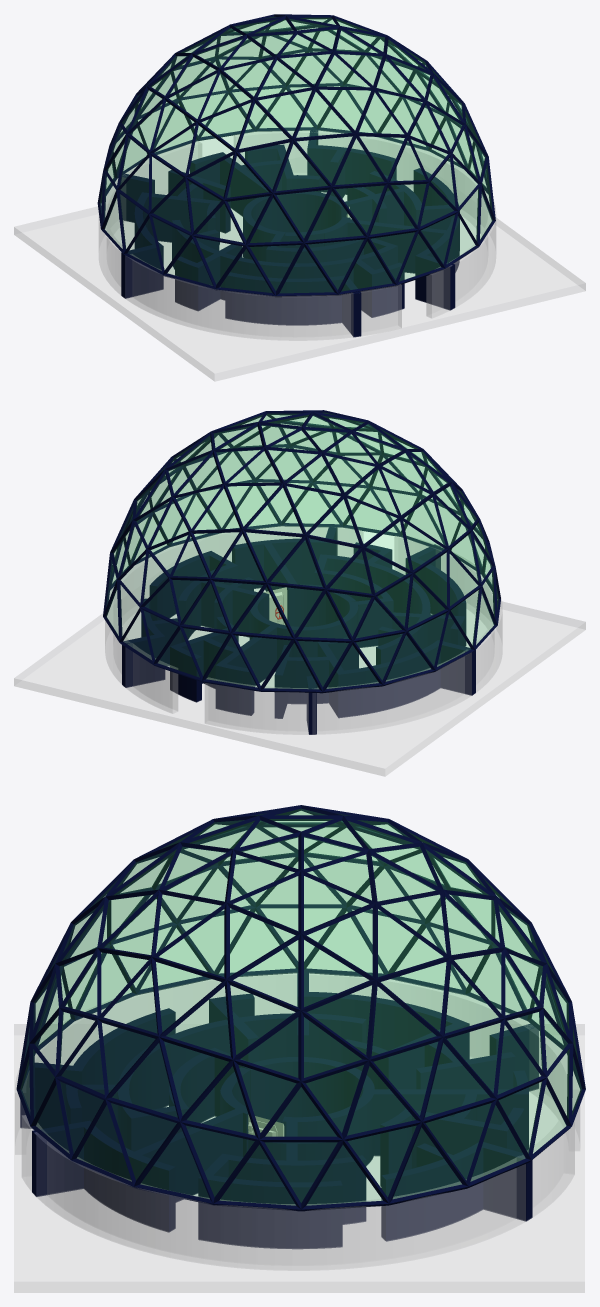
Rendered from labN2.glb.
The picture shows the model from 3 angles, top to bottom: view 1: azimuth 30°, elevation 25°; view 2: azimuth 150°, elevation 25°; view 3: azimuth 270°, elevation 25°; orthographic projection. The views are drawn at different scales.
Visible parts, largest first — view 1: Esfera geodésica, Curve, Cubo, Curve.001; view 2: Esfera geodésica, Curve, Cubo, Curve.001, entry_4_rad_Circle.001; view 3: Esfera geodésica, Curve, Cubo, Curve.001.
Boxes of the visible parts, x1,y1,x2,y2 form: Esfera geodésica: (97, 14, 495, 297); Curve: (119, 129, 459, 337); Cubo: (14, 192, 585, 381); Curve.001: (99, 130, 495, 340); Esfera geodésica: (103, 410, 500, 693); Curve: (122, 526, 475, 734); Cubo: (14, 588, 585, 776); Curve.001: (105, 526, 502, 734); entry_4_rad_Circle.001: (264, 587, 287, 625); Esfera geodésica: (16, 805, 585, 1211); Curve: (20, 972, 538, 1248); Cubo: (14, 1024, 584, 1292); Curve.001: (15, 973, 579, 1270).
Bounding box in the file's own units: 9.96 × 5.96 × 9.34.
